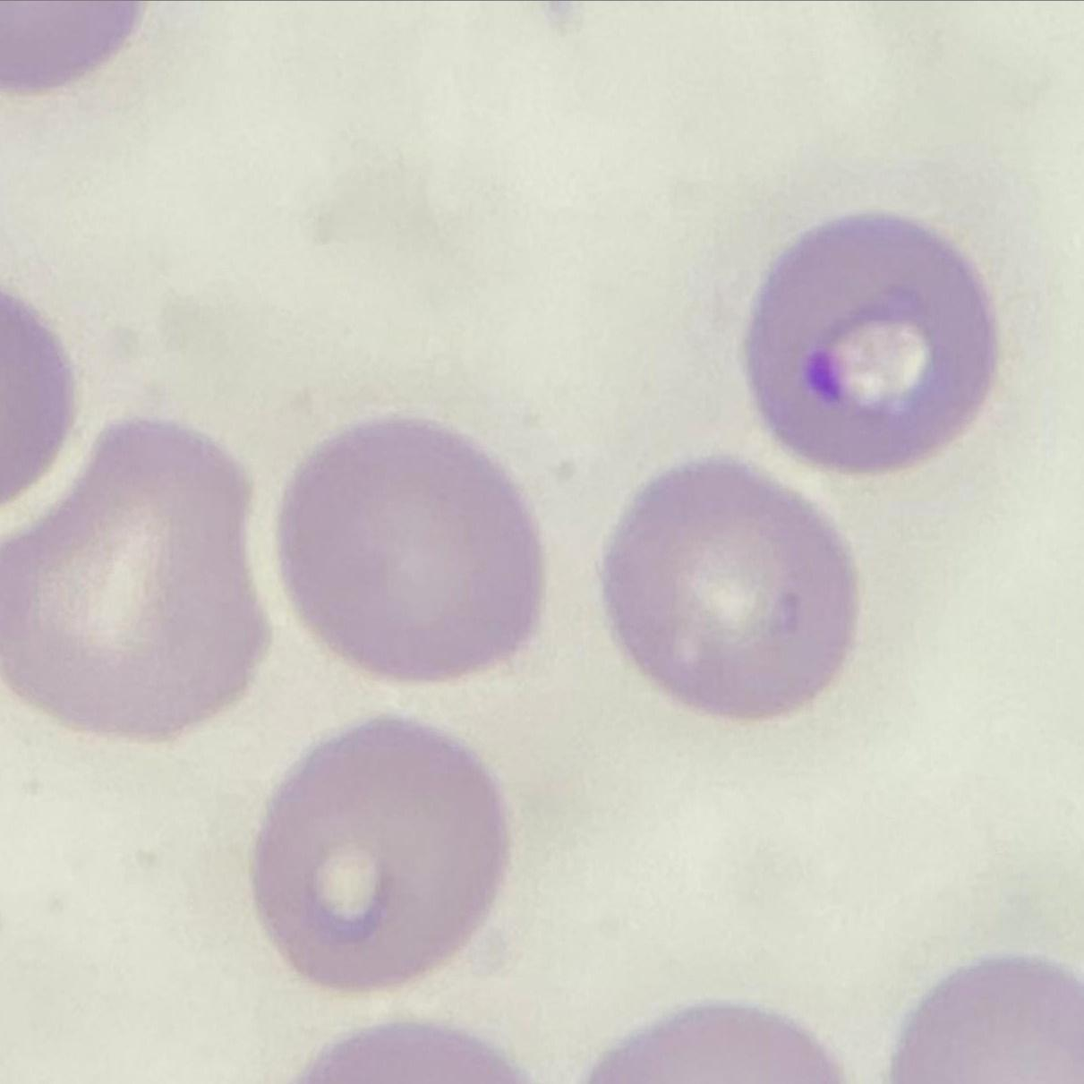Infected: (743, 213, 997, 474)
Uninfected: (0, 419, 276, 744), (282, 417, 551, 687), (257, 717, 512, 997), (602, 455, 848, 721)
